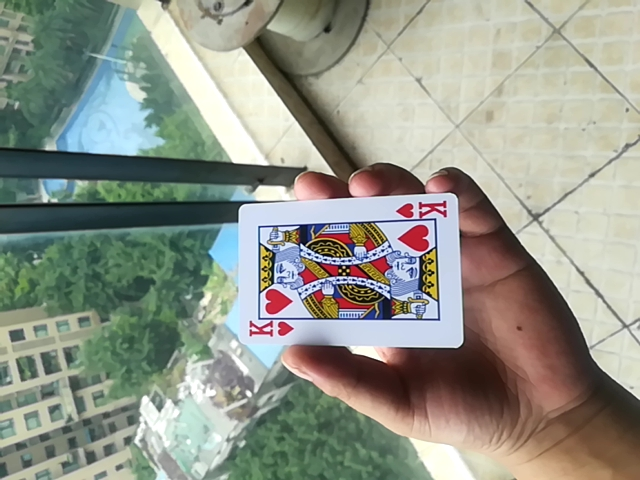hx k: (228, 188, 461, 352)
